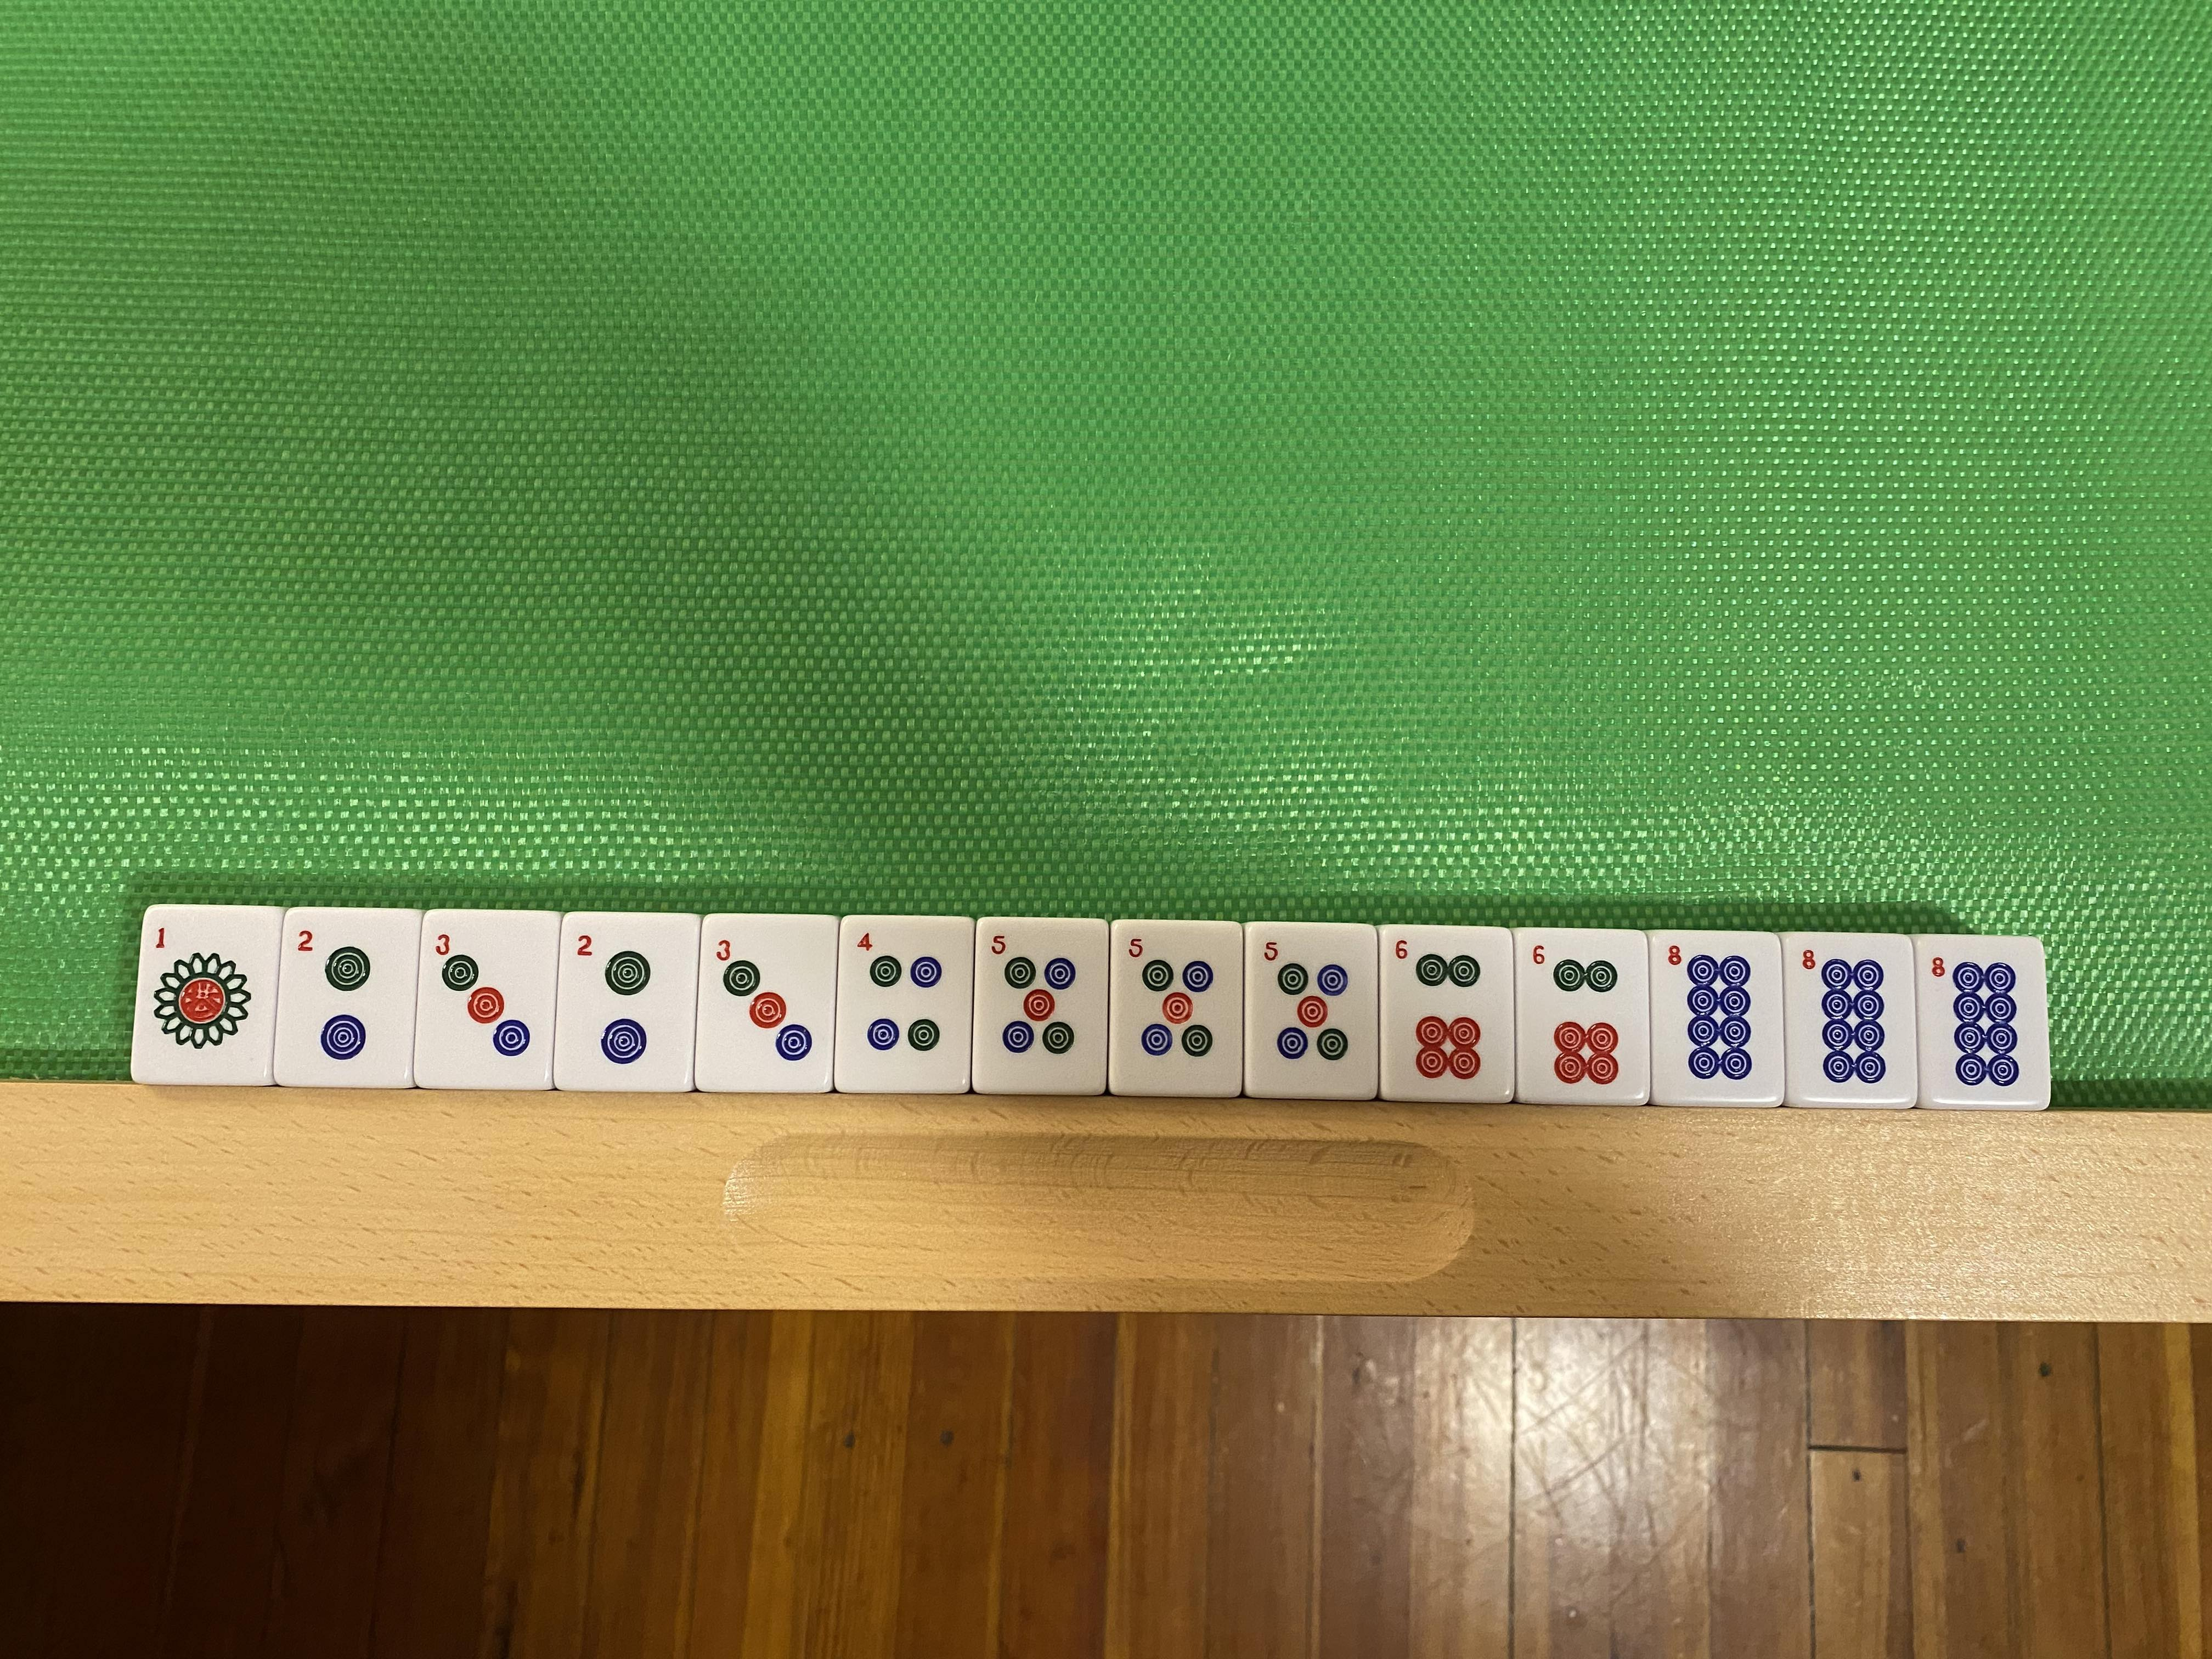circle-eight: (1655, 932, 1780, 1101), (1919, 939, 2043, 1103), (1789, 938, 1911, 1100)
circle-five: (975, 922, 1104, 1091), (1247, 927, 1376, 1094), (1111, 925, 1240, 1091)
circle-four: (836, 922, 967, 1091)
circle-one: (145, 910, 273, 1080)
circle-six: (1519, 932, 1646, 1100), (1383, 931, 1510, 1098)
circle-three: (698, 917, 833, 1091), (421, 915, 556, 1087)
circle-two: (277, 911, 418, 1082), (559, 917, 695, 1091)
